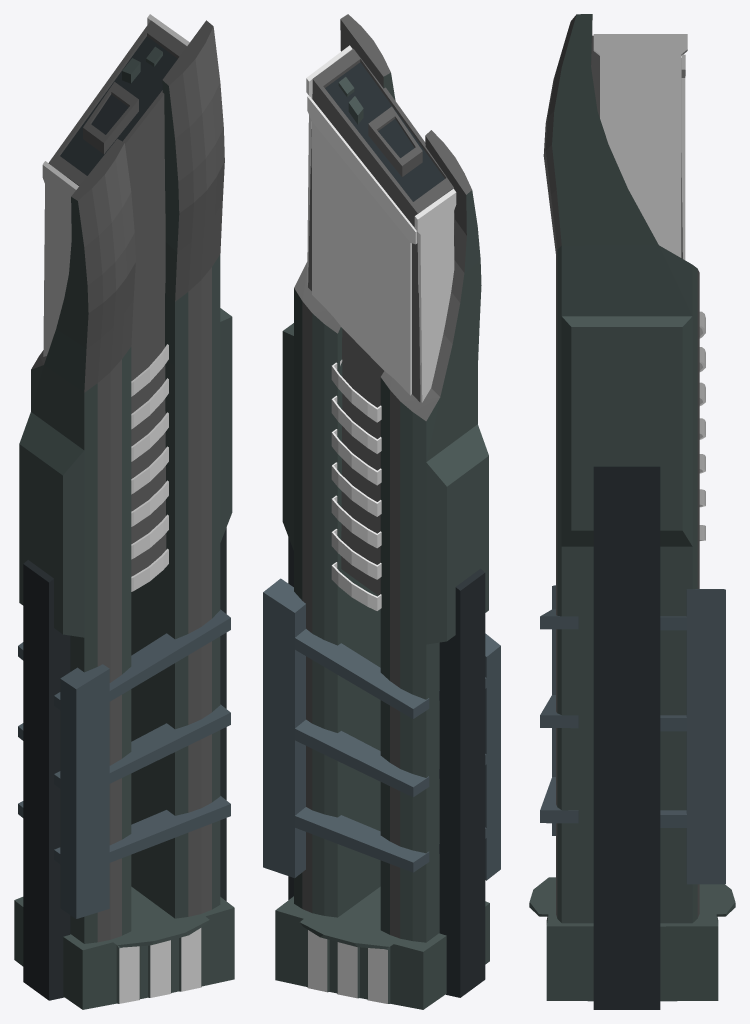
The model's file is building_64.fbx.
3 renders of one model, left to right at view 1: azimuth 30°, elevation 25°; view 2: azimuth 150°, elevation 25°; view 3: azimuth 270°, elevation 25°, orthographic. The views are drawn at different scales.
Visible parts, largest first — view 1: building_64; view 2: building_64; view 3: building_64.
Boxes of the visible parts, x1,y1,x2,y2 form: building_64: [14, 14, 234, 1009]; building_64: [263, 14, 500, 1009]; building_64: [529, 14, 735, 1009].
Bounding box in the file's own units: 904 × 4697 × 893.
